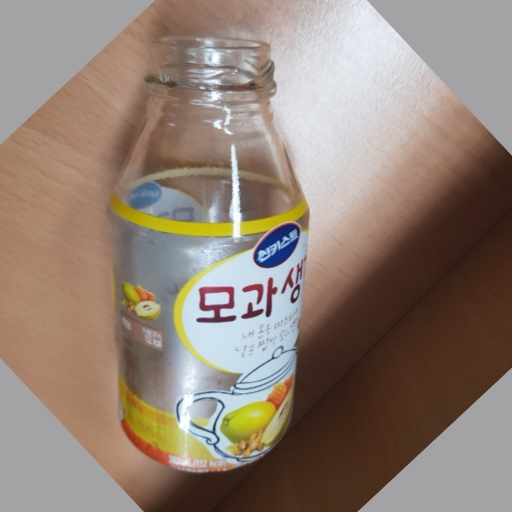Glass_4: (105, 30, 311, 468)
